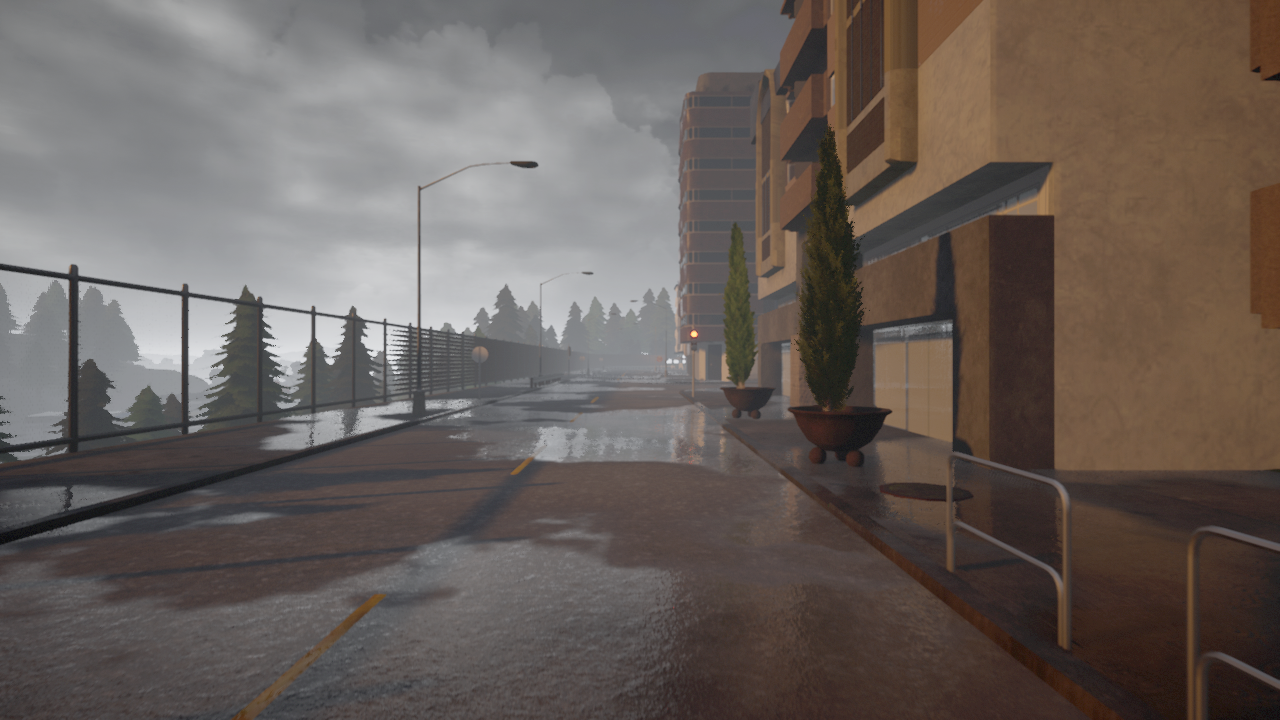red: (689, 328, 697, 351)
